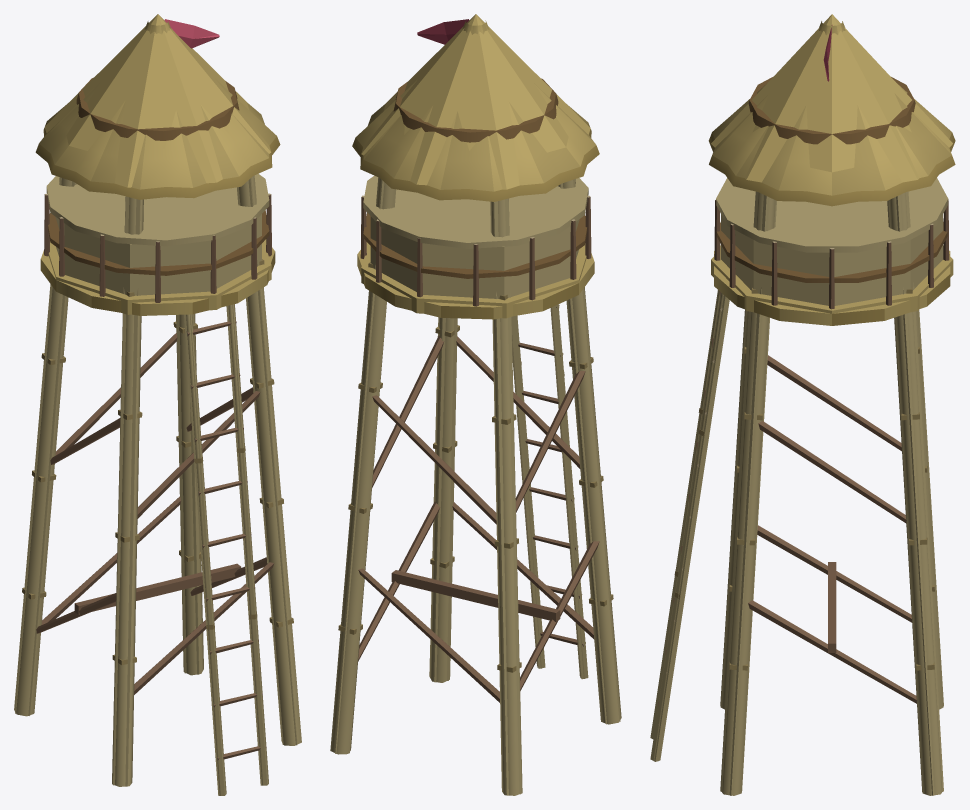
File: watchtower.glb
3 views of the same model, side by side, from view 1: azimuth 30°, elevation 25°; view 2: azimuth 150°, elevation 25°; view 3: azimuth 270°, elevation 25° (orthographic). The views are drawn at different scales.
Visible parts, largest first — view 1: body, body__far, body_nl; view 2: body, body__far, body_nl; view 3: body, body__far, body_nl.
Part boxes in pixels (left/top/right/bottom): body: left=14, top=173, right=301, bottom=795; body__far: left=15, top=14, right=297, bottom=795; body_nl: left=22, top=19, right=293, bottom=760; body: left=330, top=175, right=621, bottom=795; body__far: left=334, top=14, right=620, bottom=795; body_nl: left=338, top=19, right=613, bottom=672; body: left=653, top=178, right=950, bottom=795; body__far: left=650, top=14, right=953, bottom=795; body_nl: left=658, top=21, right=955, bottom=726.
Size of the model in its own units: 1.5 by 4.83 by 1.81.
